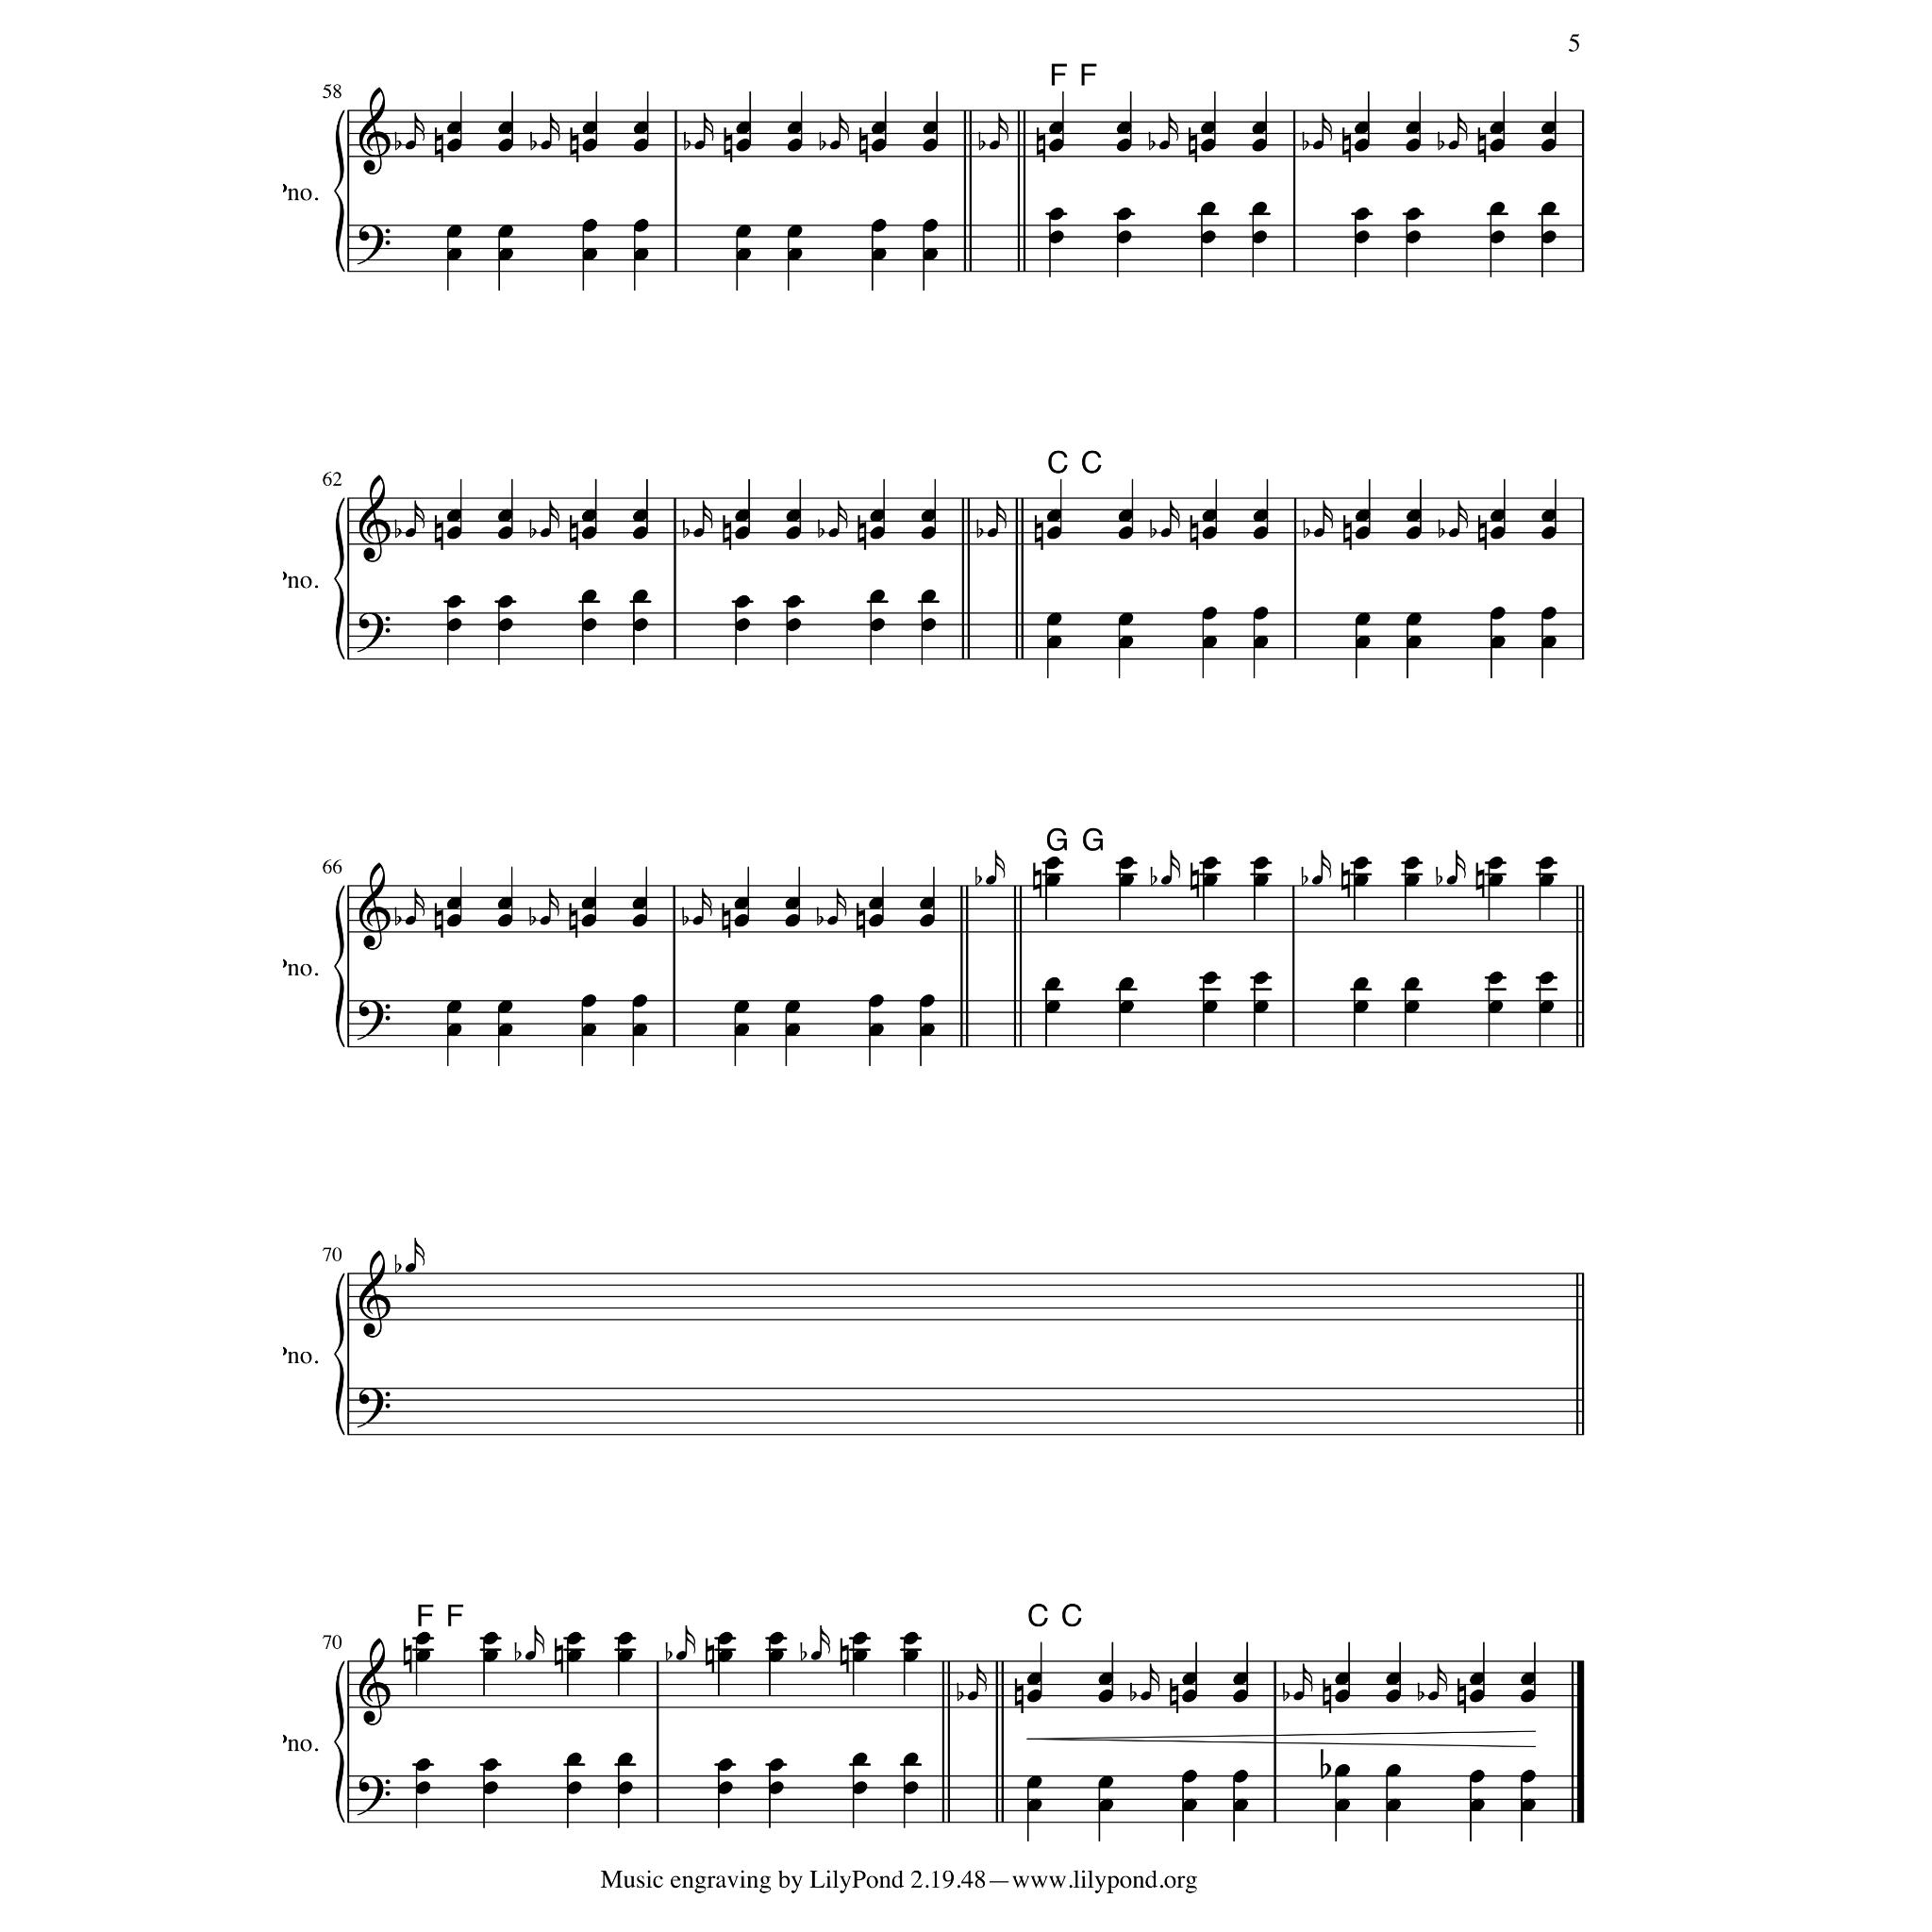brace: (333, 497, 345, 662), (333, 885, 345, 1049), (333, 110, 345, 272), (333, 1272, 345, 1435), (333, 1660, 345, 1822)
fClef: (357, 225, 391, 265), (357, 612, 391, 653), (357, 1000, 391, 1040), (357, 1389, 391, 1430), (357, 1776, 391, 1817)
flag16thUp: (1456, 849, 1467, 879), (994, 849, 1005, 879), (414, 1237, 425, 1267), (534, 1624, 545, 1654), (685, 1624, 695, 1654), (1168, 113, 1178, 142), (1322, 113, 1332, 142), (1458, 113, 1468, 142), (414, 113, 425, 142), (839, 113, 849, 142), (998, 113, 1008, 142), (1169, 501, 1180, 529), (1323, 501, 1334, 529), (1458, 501, 1468, 529), (414, 501, 425, 529), (837, 501, 847, 529), (996, 501, 1007, 529), (702, 501, 713, 529), (414, 888, 425, 916), (837, 888, 847, 916), (702, 888, 713, 916), (1150, 1665, 1161, 1693), (1302, 1665, 1313, 1693), (1437, 1665, 1447, 1693), (977, 1665, 987, 1693), (1171, 849, 1180, 879), (1322, 849, 1330, 879), (821, 1624, 830, 1654), (550, 113, 559, 142), (704, 113, 713, 142), (550, 501, 559, 529), (550, 888, 559, 916)
gClef: (359, 1249, 391, 1339), (359, 87, 391, 175), (359, 474, 391, 563), (359, 862, 391, 950), (359, 1638, 391, 1727)
noteheadBlack: (1539, 202, 1557, 216), (1539, 230, 1557, 244), (1539, 138, 1557, 152), (616, 1631, 633, 1645), (616, 1649, 633, 1663), (1251, 202, 1267, 216), (1251, 230, 1267, 244), (1251, 138, 1267, 152), (1049, 207, 1065, 221), (1049, 230, 1065, 244), (1049, 138, 1065, 152), (1116, 207, 1132, 221), (1116, 230, 1132, 244), (1116, 138, 1132, 152), (1490, 202, 1506, 216), (1490, 230, 1506, 244), (1490, 138, 1506, 152), (1353, 207, 1369, 221), (1353, 230, 1369, 244), (1353, 138, 1369, 152), (1405, 207, 1421, 221), (1405, 230, 1421, 244), (1405, 138, 1421, 152), (582, 248, 598, 262), (582, 138, 598, 152), (497, 225, 513, 239), (497, 248, 513, 262), (497, 138, 513, 152), (633, 248, 649, 262), (633, 138, 649, 152), (446, 225, 462, 239), (446, 248, 462, 262), (446, 138, 462, 152), (786, 225, 801, 239), (786, 248, 801, 262), (922, 138, 938, 152), (922, 248, 938, 262), (870, 248, 886, 262), (870, 138, 886, 152), (736, 138, 752, 152), (786, 138, 801, 152), (736, 225, 752, 239), (736, 248, 752, 262), (1201, 635, 1217, 649), (1253, 635, 1269, 649), (1046, 612, 1062, 626), (1046, 635, 1062, 649), (1118, 612, 1134, 626), (1118, 635, 1134, 649), (1541, 635, 1557, 649), (1490, 635, 1506, 649), (1353, 612, 1369, 626), (1353, 635, 1369, 649), (1407, 612, 1422, 626), (1407, 635, 1422, 649), (580, 589, 596, 603), (580, 617, 596, 632), (497, 594, 513, 609), (497, 617, 513, 632), (632, 589, 648, 603), (632, 617, 648, 632), (446, 594, 462, 609), (446, 617, 462, 632), (786, 594, 801, 609), (786, 617, 801, 632), (920, 617, 936, 632), (920, 589, 936, 603), (869, 589, 885, 603), (869, 617, 885, 632), (734, 594, 750, 609), (734, 617, 750, 632), (1201, 971, 1217, 985), (1201, 1000, 1217, 1014), (1201, 856, 1217, 870), (1253, 971, 1269, 985), (1253, 1000, 1269, 1014), (1253, 856, 1269, 870), (1044, 977, 1060, 991), (1044, 1000, 1060, 1014), (1044, 856, 1060, 870), (1118, 977, 1134, 991), (1118, 1000, 1134, 1014), (1118, 856, 1134, 870), (1537, 971, 1553, 985), (1537, 1000, 1553, 1014), (1537, 856, 1553, 870), (1488, 971, 1504, 985), (1488, 1000, 1504, 1014), (1488, 856, 1504, 870), (1352, 977, 1368, 991), (1352, 1000, 1368, 1014), (1352, 856, 1368, 870), (1403, 977, 1419, 991), (1403, 1000, 1419, 1014), (1403, 856, 1419, 870), (580, 1023, 596, 1037), (580, 897, 596, 911), (497, 1000, 513, 1014), (497, 1023, 513, 1037), (497, 897, 513, 911), (632, 1023, 648, 1037), (632, 897, 648, 911), (446, 897, 462, 911), (446, 1000, 462, 1014), (446, 1023, 462, 1037), (784, 1000, 800, 1014), (784, 1023, 800, 1037), (920, 897, 936, 911), (920, 1023, 936, 1037), (784, 897, 800, 911), (869, 1023, 885, 1037), (869, 897, 885, 911), (734, 897, 750, 911), (734, 1000, 750, 1014), (734, 1023, 750, 1037), (1182, 1769, 1198, 1783), (1182, 1798, 1198, 1812), (1097, 1775, 1113, 1789), (1026, 1775, 1042, 1789), (1026, 1798, 1042, 1812), (1097, 1798, 1113, 1812), (1468, 1769, 1484, 1783), (1468, 1798, 1484, 1812), (1520, 1769, 1536, 1783), (1520, 1798, 1536, 1812), (1334, 1798, 1350, 1812), (1334, 1764, 1350, 1778), (1385, 1764, 1401, 1778), (1385, 1798, 1401, 1812), (566, 1631, 582, 1645), (566, 1649, 582, 1663), (481, 1759, 497, 1773), (481, 1631, 497, 1645), (481, 1649, 497, 1663), (414, 1759, 430, 1773), (414, 1631, 430, 1645), (414, 1649, 430, 1663), (851, 1631, 867, 1645), (851, 1649, 867, 1663), (902, 1631, 918, 1645), (902, 1649, 918, 1663), (717, 1649, 732, 1663), (717, 1759, 732, 1773), (717, 1631, 732, 1645), (768, 1759, 784, 1773), (768, 1649, 784, 1663), (768, 1631, 784, 1645), (1539, 122, 1557, 134), (616, 1753, 633, 1766), (616, 1782, 633, 1794), (1201, 202, 1215, 216), (1201, 230, 1215, 244), (1201, 138, 1215, 152), (1233, 1769, 1247, 1783), (1233, 1798, 1247, 1812), (1251, 122, 1267, 134), (1049, 122, 1065, 134), (1116, 122, 1132, 134), (1490, 122, 1506, 134), (1353, 122, 1369, 134), (1405, 122, 1421, 134), (582, 219, 598, 232), (582, 122, 598, 134), (497, 122, 513, 134), (633, 219, 649, 232), (633, 122, 649, 134), (446, 122, 462, 134), (922, 122, 938, 134), (786, 122, 801, 134), (922, 219, 938, 232), (870, 219, 886, 232), (870, 122, 886, 134), (736, 122, 752, 134), (1201, 607, 1217, 619), (1201, 510, 1217, 522), (1201, 527, 1217, 540), (1253, 607, 1269, 619), (1253, 510, 1269, 522), (1253, 527, 1269, 540), (1046, 510, 1062, 522), (1046, 527, 1062, 540), (1118, 510, 1134, 522), (1118, 527, 1134, 540), (1541, 607, 1557, 619), (1541, 510, 1557, 522), (1541, 527, 1557, 540), (1490, 607, 1506, 619), (1490, 510, 1506, 522), (1490, 527, 1506, 540), (1353, 510, 1369, 522), (1353, 527, 1369, 540), (1407, 510, 1422, 522), (1407, 527, 1422, 540), (580, 510, 596, 522), (580, 527, 596, 540), (497, 510, 513, 522), (497, 527, 513, 540), (632, 510, 648, 522), (632, 527, 648, 540), (446, 510, 462, 522), (446, 527, 462, 540), (920, 527, 936, 540), (920, 510, 936, 522), (786, 510, 801, 522), (869, 510, 885, 522), (869, 527, 885, 540), (734, 527, 750, 540), (734, 510, 750, 522), (786, 527, 801, 540), (1201, 874, 1217, 886), (1253, 874, 1269, 886), (1044, 874, 1060, 886), (1118, 874, 1134, 886), (1537, 874, 1553, 886), (1488, 874, 1504, 886), (1352, 874, 1368, 886), (1403, 874, 1419, 886), (580, 994, 596, 1007), (580, 915, 596, 927), (632, 994, 648, 1007), (497, 915, 513, 927), (632, 915, 648, 927), (446, 915, 462, 927), (920, 915, 936, 927), (920, 994, 936, 1007), (869, 994, 885, 1007), (869, 915, 885, 927), (734, 915, 750, 927), (784, 915, 800, 927), (1182, 1672, 1198, 1684), (1182, 1690, 1198, 1702), (1026, 1672, 1042, 1684), (1026, 1690, 1042, 1702), (1097, 1672, 1113, 1684), (1097, 1690, 1113, 1702), (1520, 1690, 1536, 1702), (1520, 1672, 1536, 1684), (1468, 1672, 1484, 1684), (1468, 1690, 1484, 1702), (1334, 1672, 1350, 1684), (1334, 1690, 1350, 1702), (1385, 1672, 1401, 1684), (1385, 1690, 1401, 1702), (566, 1753, 582, 1766), (566, 1782, 582, 1794), (481, 1782, 497, 1794), (414, 1782, 430, 1794), (851, 1753, 867, 1766), (851, 1782, 867, 1794), (902, 1753, 918, 1766), (902, 1782, 918, 1794), (717, 1782, 732, 1794), (768, 1782, 784, 1794), (1201, 122, 1215, 134), (1233, 1672, 1247, 1684), (1233, 1690, 1247, 1702), (1447, 140, 1460, 150), (1313, 527, 1325, 538), (1447, 527, 1460, 538), (692, 527, 704, 538), (828, 527, 840, 538), (692, 915, 704, 925), (1139, 1691, 1152, 1702), (524, 1651, 536, 1661), (1159, 140, 1169, 150), (1313, 140, 1323, 150), (541, 140, 552, 150), (694, 140, 704, 150), (405, 140, 416, 150), (830, 140, 840, 150), (989, 140, 1000, 150), (1161, 527, 1171, 538), (540, 527, 550, 538), (405, 527, 416, 538), (987, 527, 998, 538), (540, 915, 550, 925), (405, 915, 416, 925), (826, 915, 837, 925), (405, 1263, 416, 1274), (1293, 1691, 1304, 1702), (1428, 1691, 1438, 1702), (676, 1651, 686, 1661), (810, 1651, 821, 1661), (968, 1691, 978, 1702), (1311, 876, 1323, 885), (1445, 876, 1458, 885), (1161, 876, 1171, 885), (985, 876, 996, 885)
